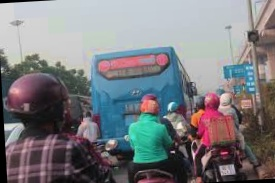Bien-so: (200, 167, 217, 179)
